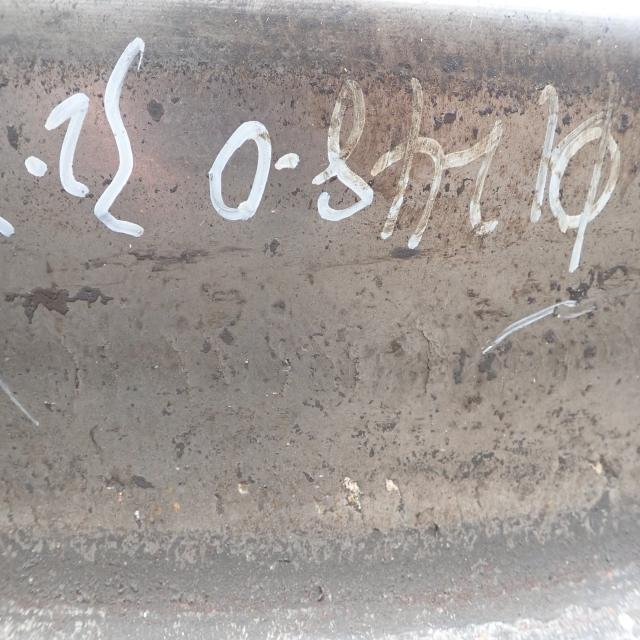Contact_Fatigue_Cracks: (266, 331, 328, 396), (39, 311, 83, 399), (163, 331, 193, 391), (97, 328, 122, 400), (339, 339, 366, 399), (417, 326, 439, 397), (211, 337, 232, 395), (344, 473, 367, 524), (387, 475, 407, 529)
